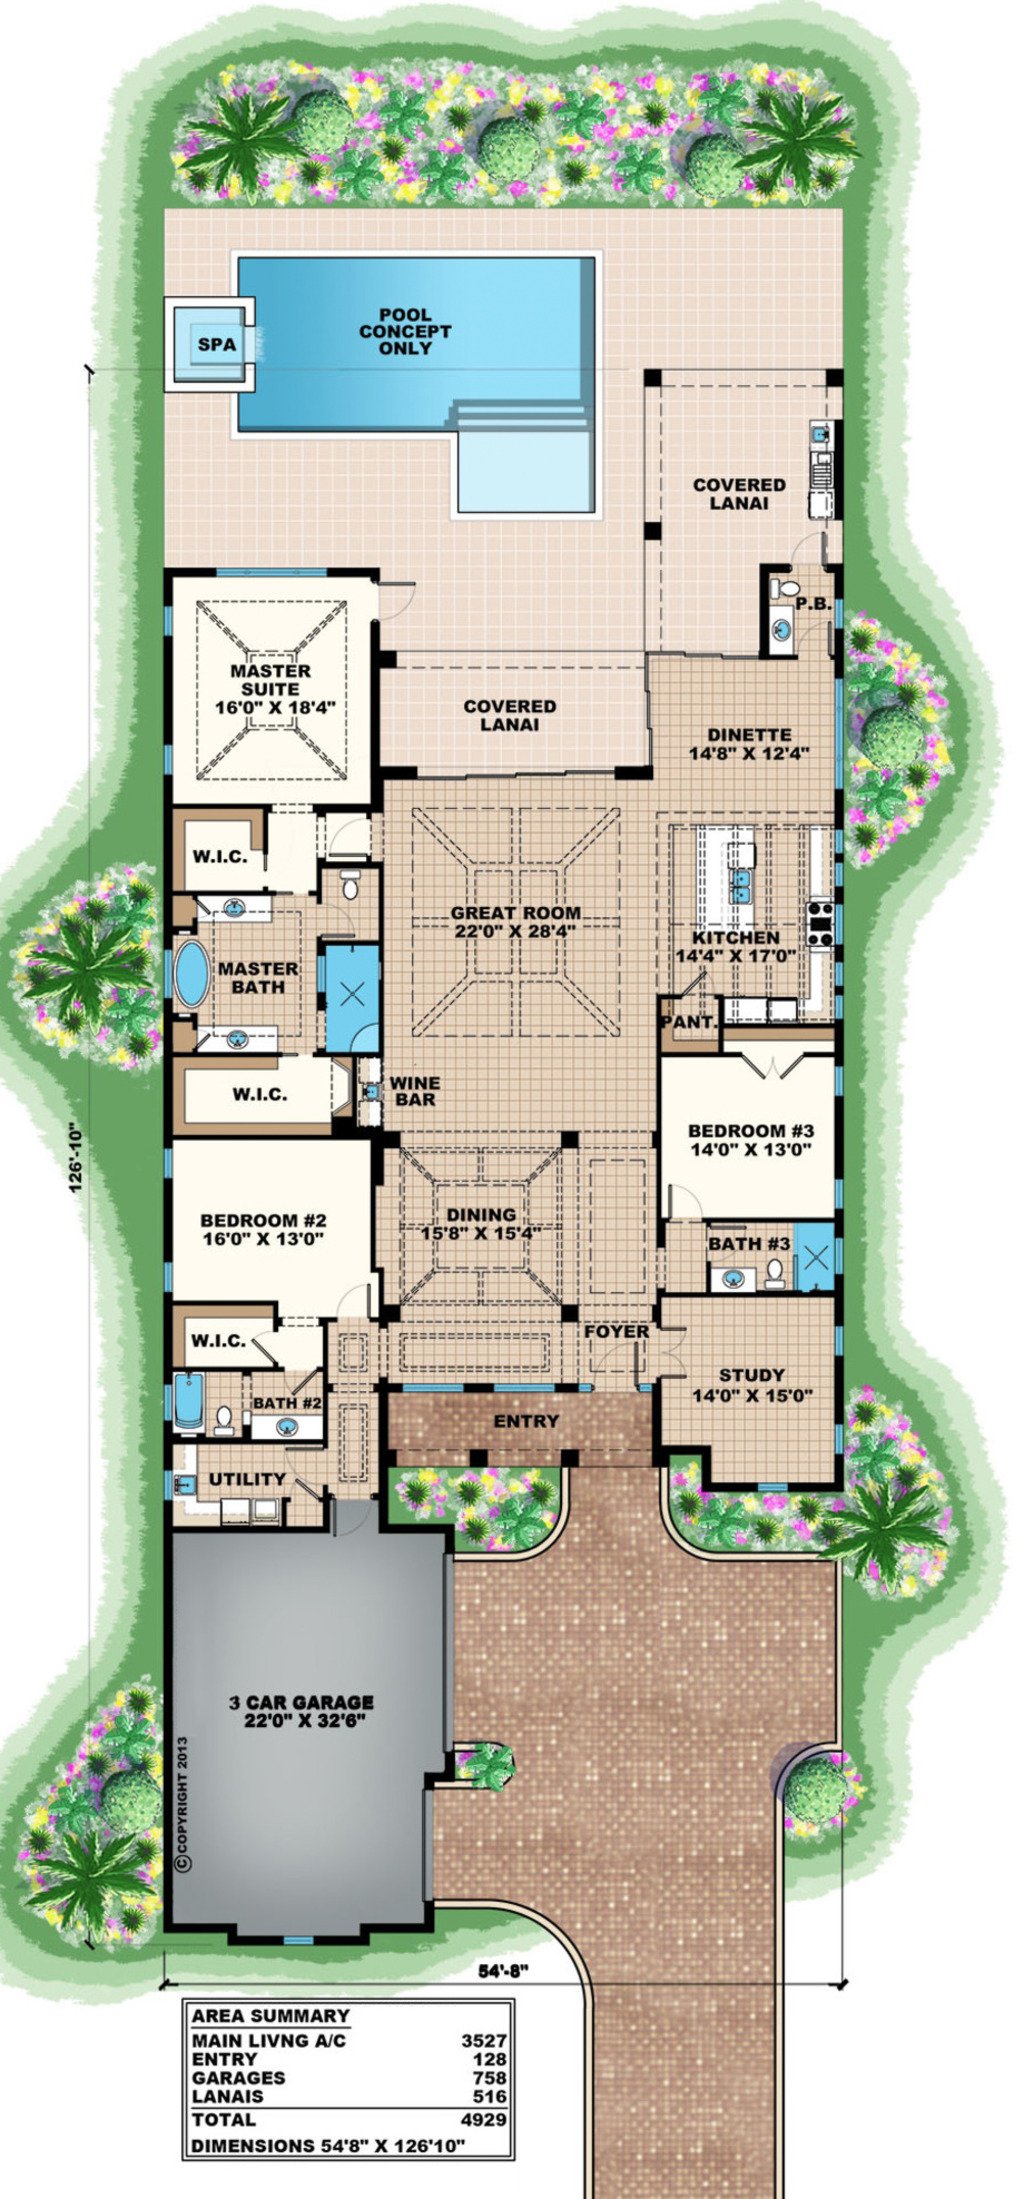door: (738, 1046, 800, 1088), (369, 574, 412, 620), (666, 1177, 701, 1227), (334, 1276, 377, 1313)
kitchen_bar: (694, 820, 755, 930)
small_sink: (255, 1409, 324, 1444)
tub: (171, 937, 217, 1013), (166, 1369, 203, 1442)
windows: (199, 562, 345, 581)
